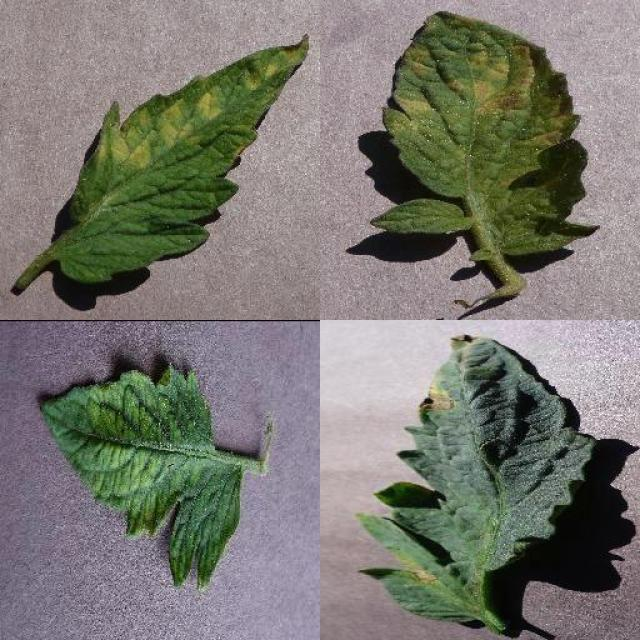Early Blight: (362, 334, 592, 624)
